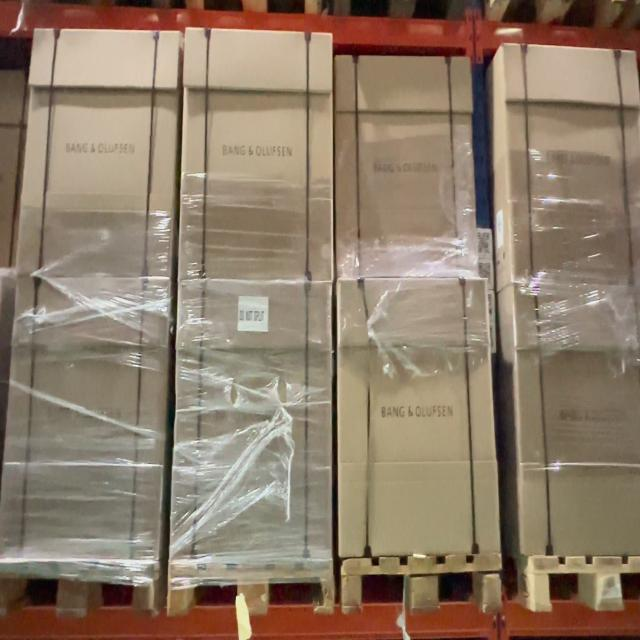box: (0, 277, 170, 559), (341, 276, 500, 555), (177, 283, 334, 559), (15, 29, 180, 282), (184, 33, 333, 277), (336, 55, 480, 281)
